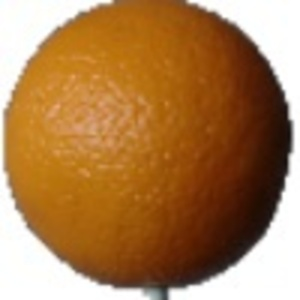laranja: (3, 4, 297, 290)
